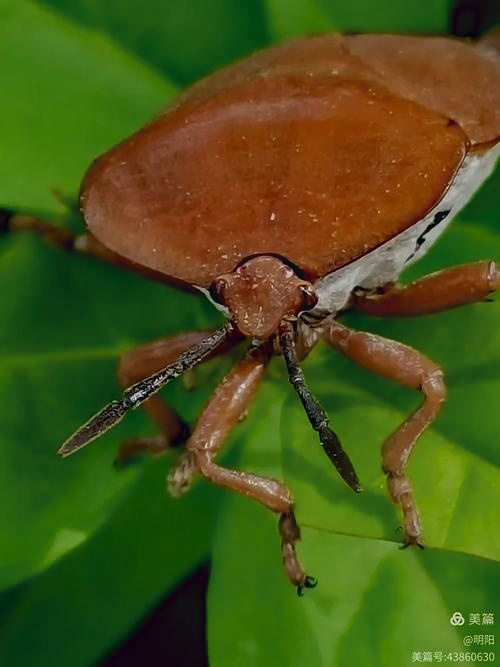Stink_Bug: (98, 8, 473, 506)
